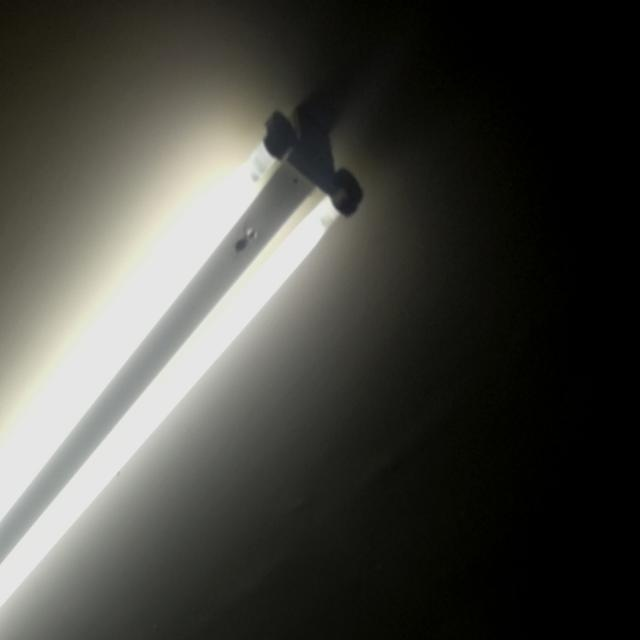fluorescent tube: (0, 99, 371, 640)
